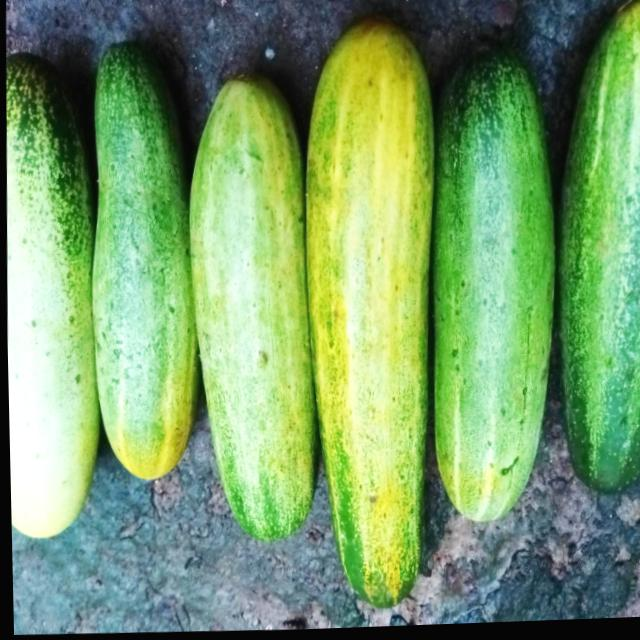Fresh-Cucumber: (291, 21, 442, 618), (177, 71, 321, 555), (417, 60, 562, 533), (80, 40, 205, 489), (1, 46, 103, 547), (546, 1, 640, 508)
